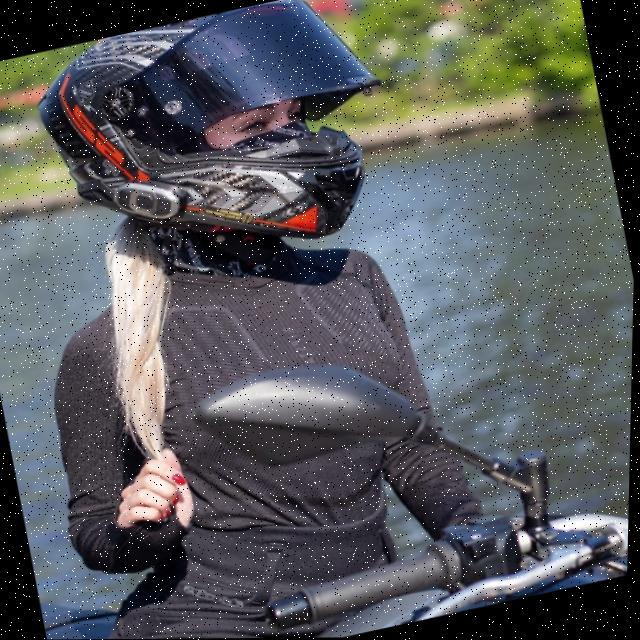helmet: (16, 0, 417, 299)
